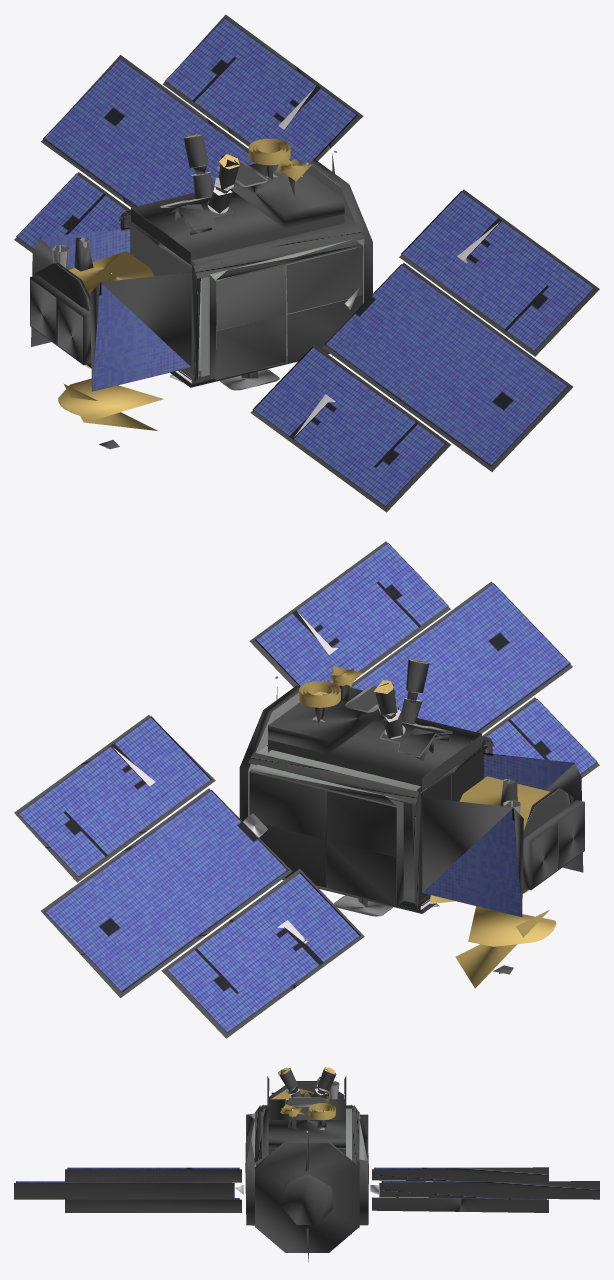
Rendered from ice-clouds-and-land-elevation-satellite-icesat-b.glb.
The picture shows the model from 3 angles, top to bottom: view 1: azimuth 30°, elevation 25°; view 2: azimuth 150°, elevation 25°; view 3: azimuth 270°, elevation 25°; orthographic projection. The views are drawn at different scales.
Parts seen in each view (by area): view 1: Mesh .007, Mesh .004, Mesh (×2), Mesh .003; view 2: Mesh .007, Mesh .004, Mesh (×2), Mesh .003; view 3: Mesh .004, Mesh (×2), Mesh .007.
Boxes of the visible parts, bbox=[...] form: Mesh .007: bbox=[16, 18, 594, 506]; Mesh .004: bbox=[14, 14, 599, 512]; Mesh (×2): bbox=[58, 86, 499, 436]; Mesh .003: bbox=[160, 150, 364, 389]; Mesh .007: bbox=[18, 543, 597, 1032]; Mesh .004: bbox=[14, 541, 599, 1038]; Mesh (×2): bbox=[113, 612, 556, 988]; Mesh .003: bbox=[248, 676, 452, 915]; Mesh .004: bbox=[14, 1067, 599, 1261]; Mesh (×2): bbox=[235, 1067, 378, 1234]; Mesh .007: bbox=[16, 1167, 546, 1199].
Size of the model in its own units: 0.8046 by 0.5924 by 1.76.
6 materials, 6 textured.
